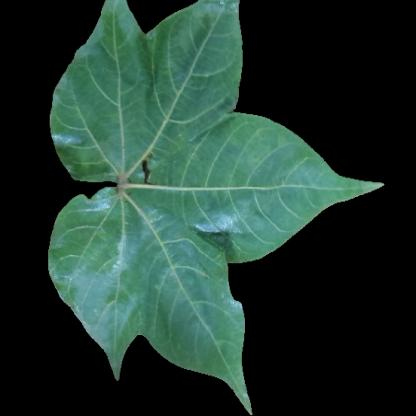healthy: (109, 72, 228, 251), (128, 253, 224, 340), (233, 163, 295, 251), (60, 237, 121, 317), (172, 15, 238, 74), (58, 82, 120, 142), (297, 153, 332, 216)
